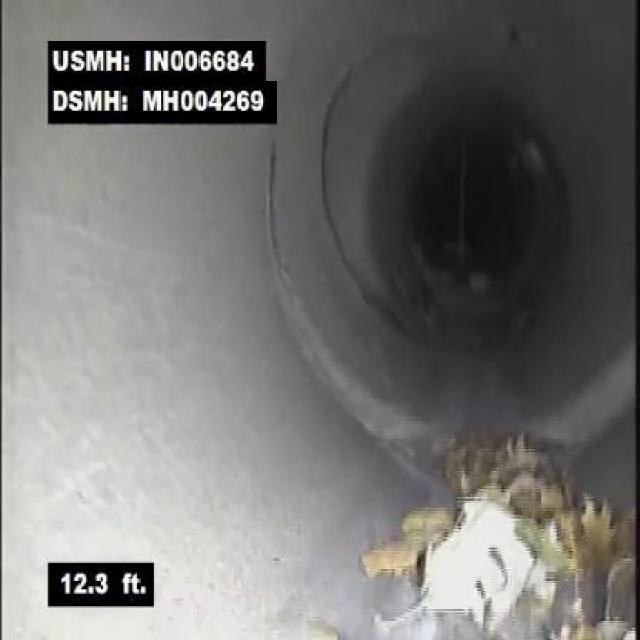Joint offset: (512, 334, 632, 498), (304, 342, 434, 471), (264, 234, 322, 337)
